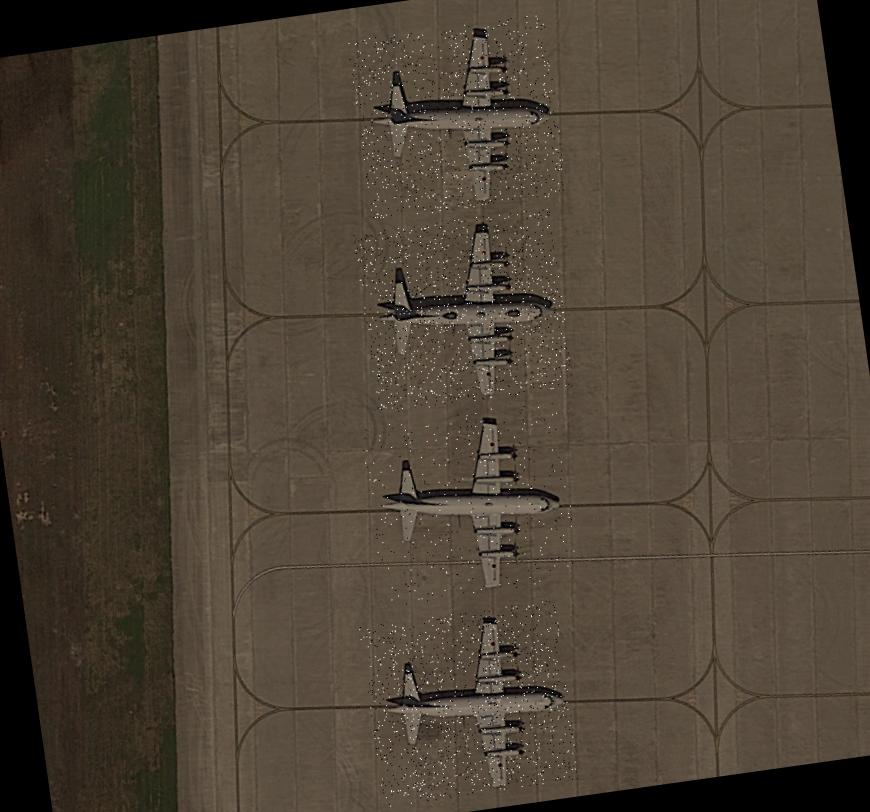A9: (360, 399, 582, 607), (359, 599, 580, 807), (348, 13, 568, 221), (354, 206, 574, 414)
